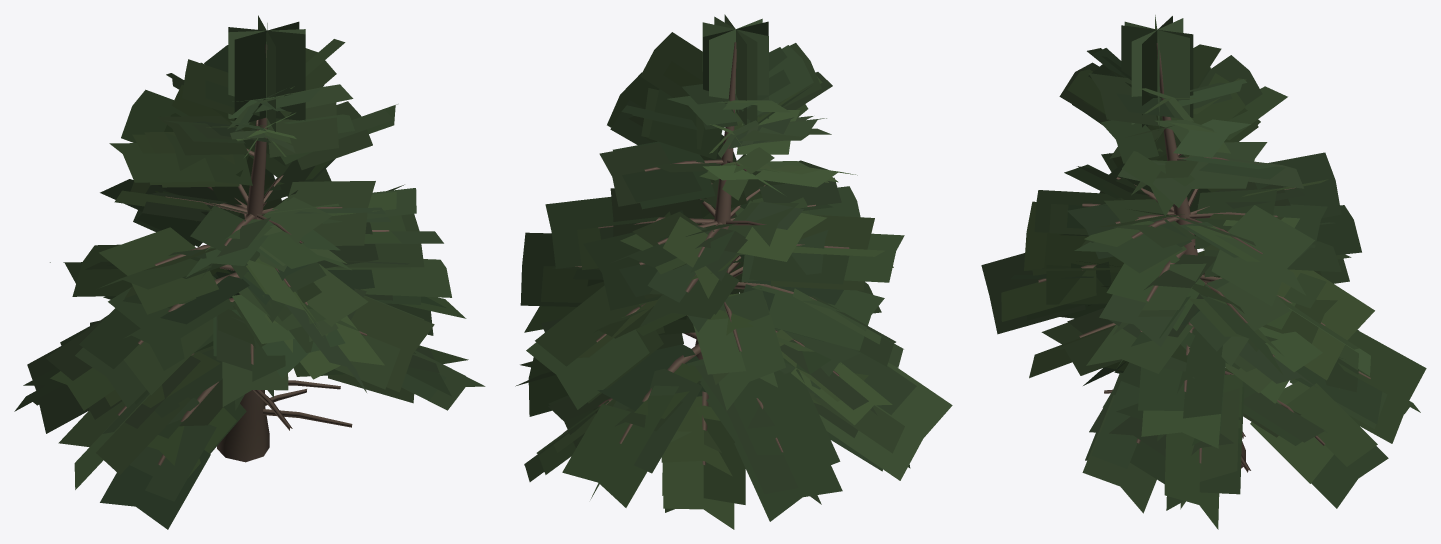
File: conifer.mountain_pine.summer.glb
3 renders of one model, left to right at view 1: azimuth 30°, elevation 25°; view 2: azimuth 150°, elevation 25°; view 3: azimuth 270°, elevation 25°, orthographic. The views are drawn at different scales.
Parts seen in each view (by area): view 1: conifer_mountain_pine_summer; view 2: conifer_mountain_pine_summer; view 3: conifer_mountain_pine_summer.
Part boxes in pixels (x1=…): conifer_mountain_pine_summer: x1=14, y1=15, x2=485, y2=529; conifer_mountain_pine_summer: x1=515, y1=14, x2=952, y2=529; conifer_mountain_pine_summer: x1=981, y1=15, x2=1426, y2=529.
Size of what is drawn, in the model's own units: 4.93 by 5.15 by 4.83.
